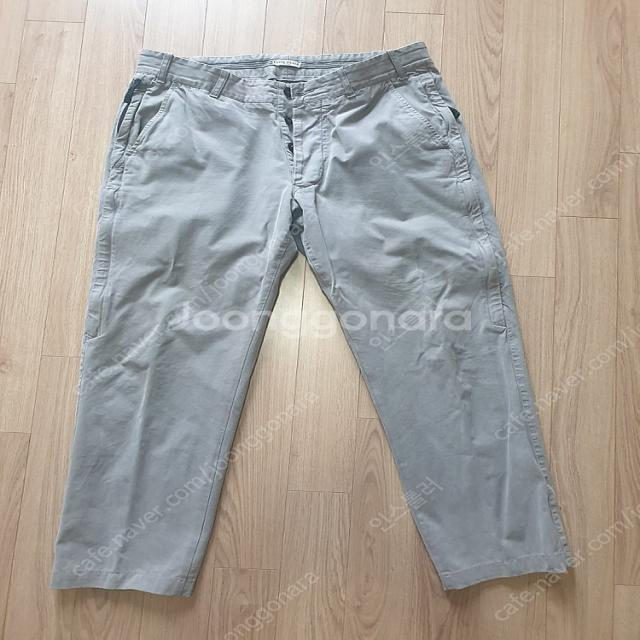long-pants: (49, 42, 574, 602)
